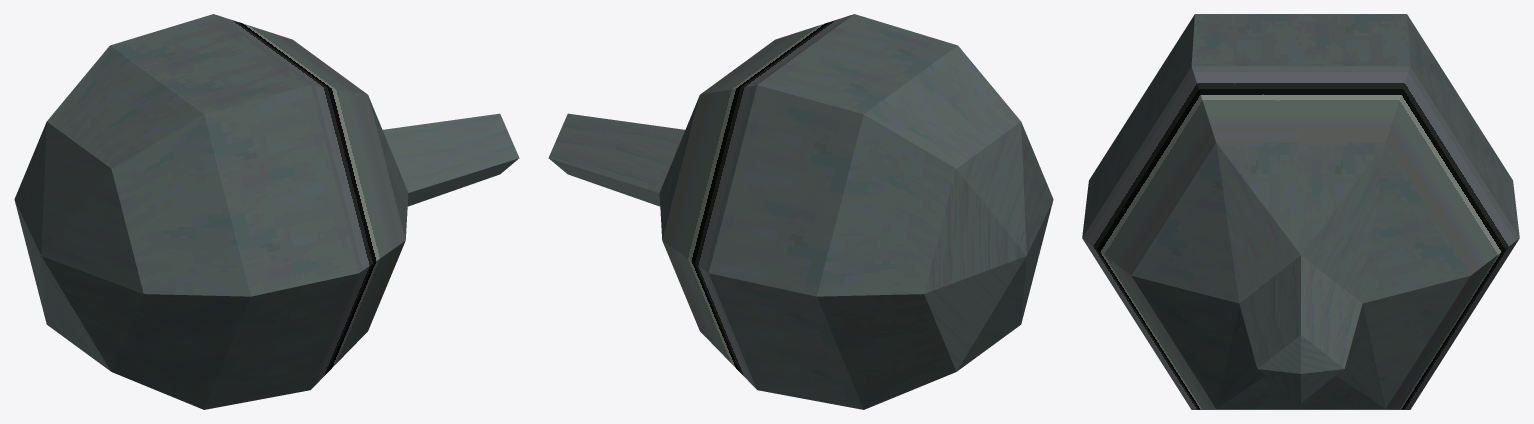
Rendered from BR_Claydol.obj.
3 renders of one model, left to right at view 1: azimuth 30°, elevation 25°; view 2: azimuth 150°, elevation 25°; view 3: azimuth 270°, elevation 25°, orthographic. The views are drawn at different scales.
Parts seen in each view (by area): view 1: nendoll; view 2: nendoll; view 3: nendoll.
Part boxes in pixels (box(x1,y1,x2,y2)): nendoll: box(14, 14, 519, 409); nendoll: box(548, 14, 1053, 409); nendoll: box(1082, 14, 1519, 409).
Bounding box in the file's own units: 4.13 × 2.57 × 2.97.
2 materials, 2 textured.
